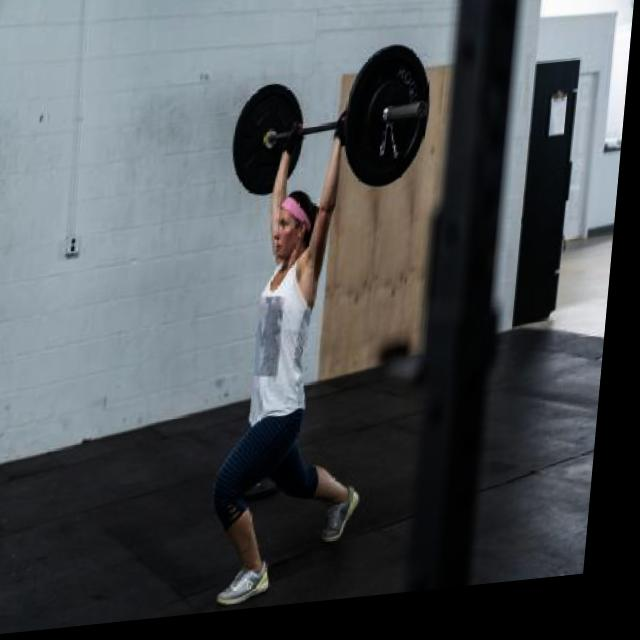barbell: (329, 50, 438, 204)
